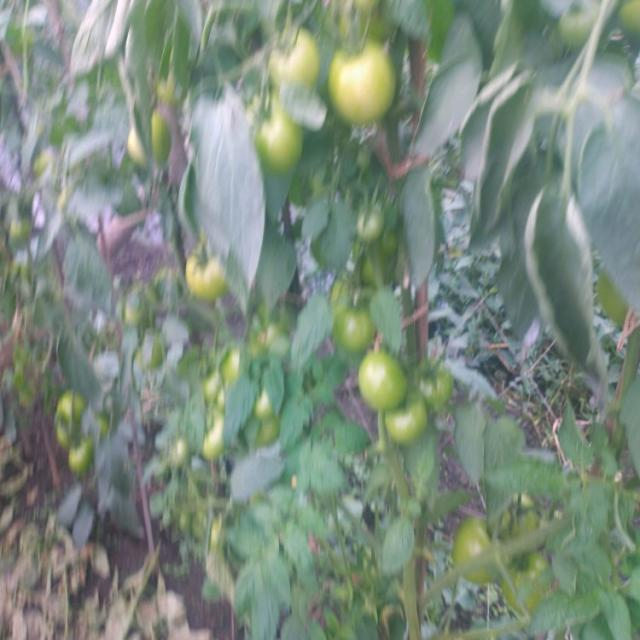tomato: (330, 38, 398, 124), (237, 99, 303, 180), (501, 546, 562, 611), (458, 518, 515, 586), (268, 27, 319, 95), (125, 105, 182, 164), (350, 350, 403, 409), (179, 244, 234, 289), (335, 300, 381, 351), (383, 394, 426, 445), (419, 355, 454, 407), (509, 489, 544, 539), (356, 217, 392, 263), (57, 393, 87, 446), (121, 278, 157, 321), (255, 417, 294, 451), (205, 427, 240, 463), (216, 352, 255, 380), (252, 394, 290, 419), (67, 444, 97, 474), (10, 217, 40, 245), (144, 343, 172, 371), (202, 377, 230, 402), (216, 392, 245, 410)
